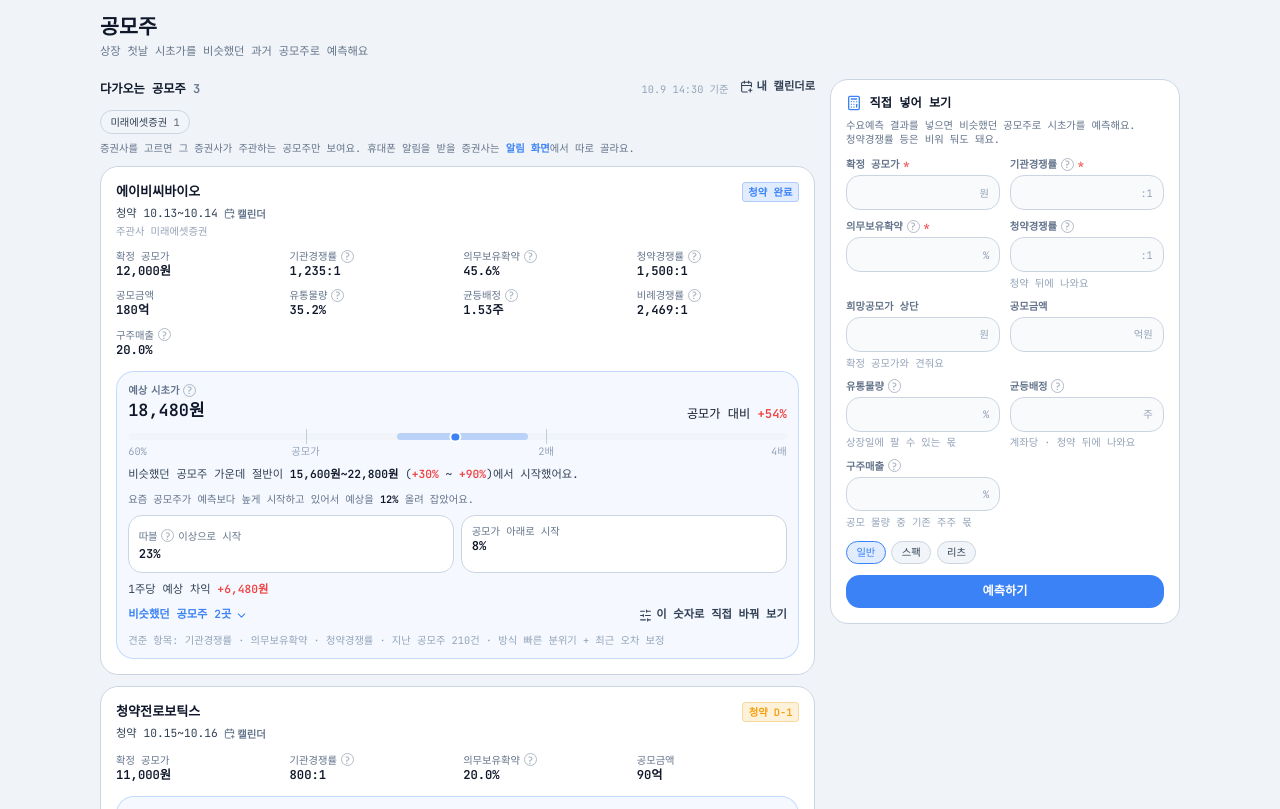
공모주 — 직접 넣어 보기 › 꼭 넣을 것을 비우면 그 자리에서 알려 주고 보내지 않는다
Click the button "예측하기" at {"x": 1005, "y": 592}, box [846, 575, 1164, 608]
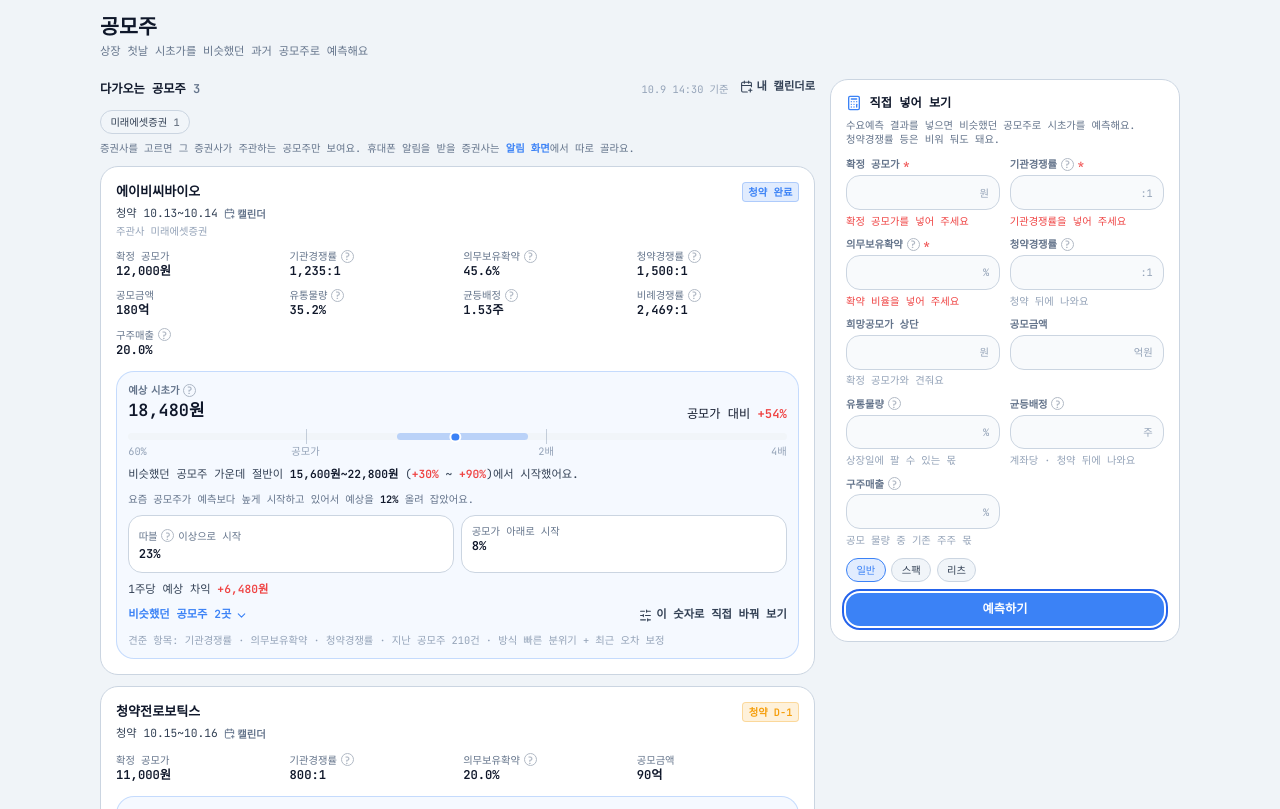
expect the text "확정 공모가를 넣어 주세요" is shown: met, box [846, 214, 969, 228]
expect the text "기관경쟁률을 넣어 주세요" is shown: met, box [1010, 214, 1126, 228]
